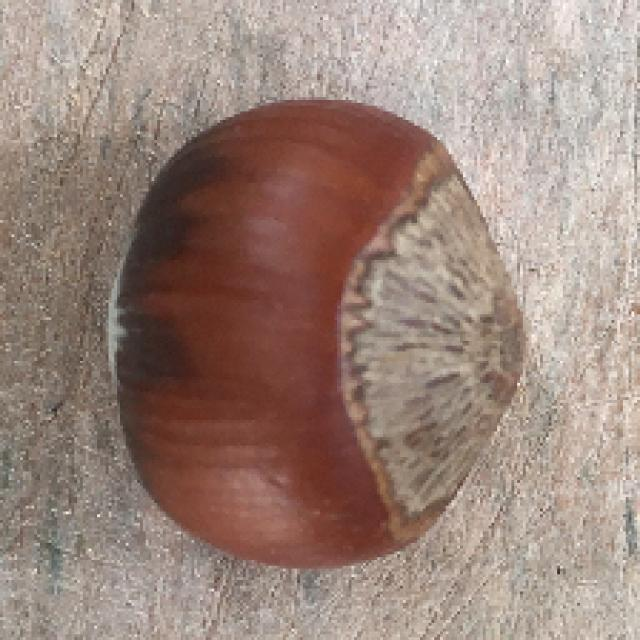damagedHazelnut: (85, 93, 538, 580)
